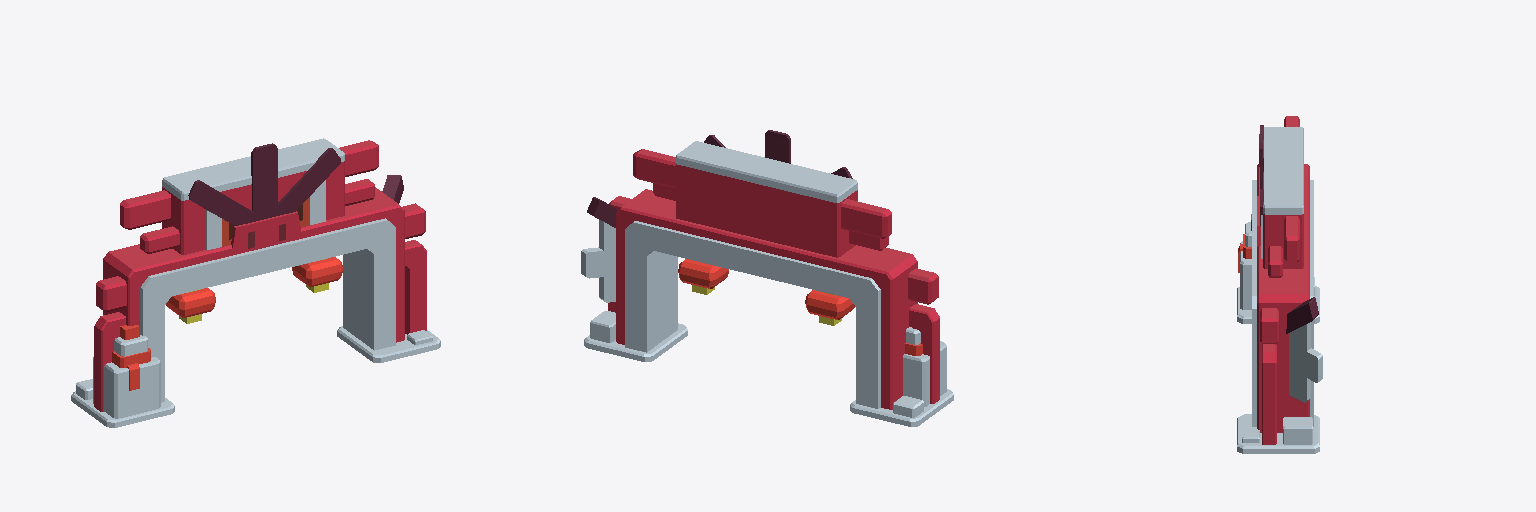
3 renders of one model, left to right at view 1: azimuth 30°, elevation 25°; view 2: azimuth 150°, elevation 25°; view 3: azimuth 270°, elevation 25°, orthographic.
Visible parts, largest first — view 1: bdGyaradosArch; view 2: bdGyaradosArch; view 3: bdGyaradosArch.
Part boxes in pixels (x1,y1,x2,y2): bdGyaradosArch: (71, 138, 440, 427); bdGyaradosArch: (581, 130, 953, 426); bdGyaradosArch: (1237, 116, 1322, 453).
Size of the model in its own units: 14.99 by 9.98 by 3.32.
Materials: 1 (1 with a texture image).